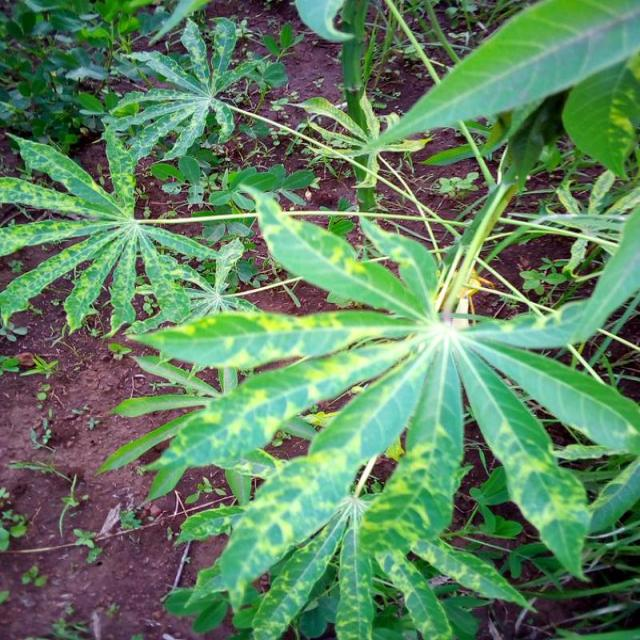cassava leaf: (109, 178, 638, 638)
